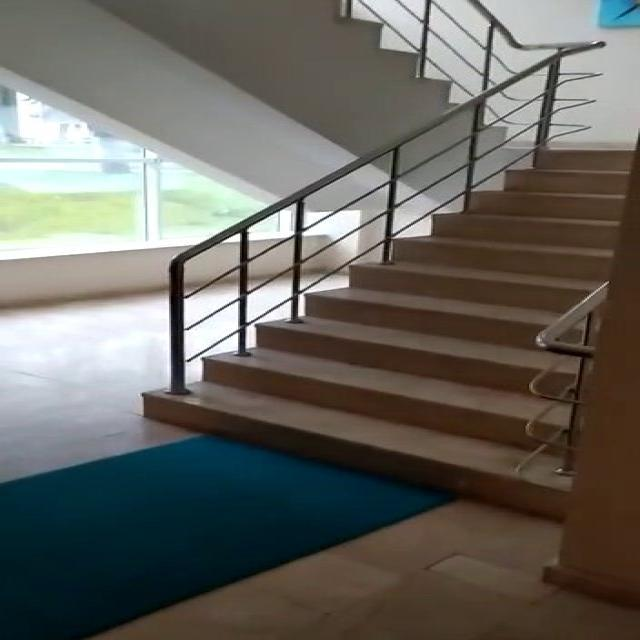stair: (117, 99, 640, 524)
